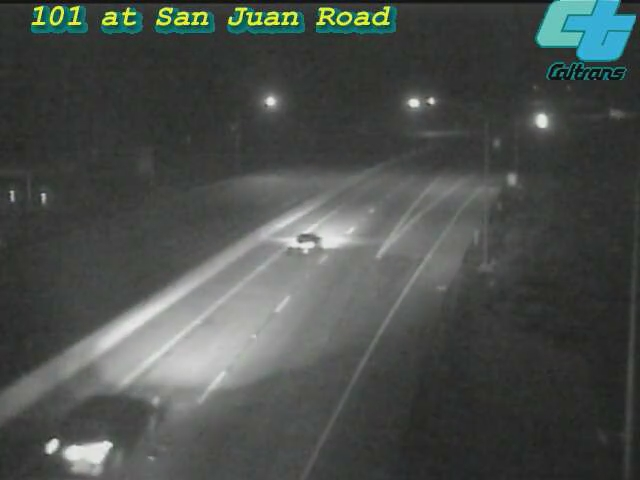vehicle: (48, 379, 158, 480), (267, 202, 347, 282), (519, 97, 569, 147), (592, 90, 640, 140)
